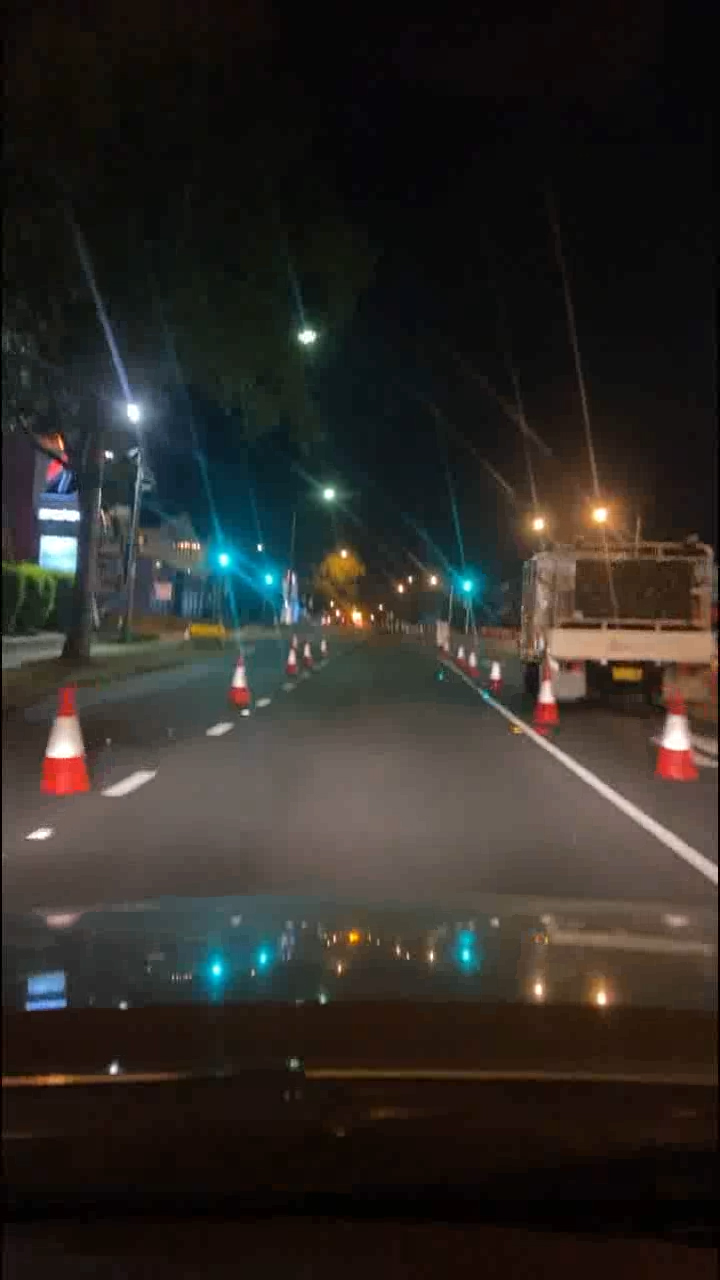road cone: (35, 680, 91, 801), (647, 679, 702, 782), (218, 642, 258, 717), (284, 632, 330, 676)
truck: (505, 539, 714, 684)
